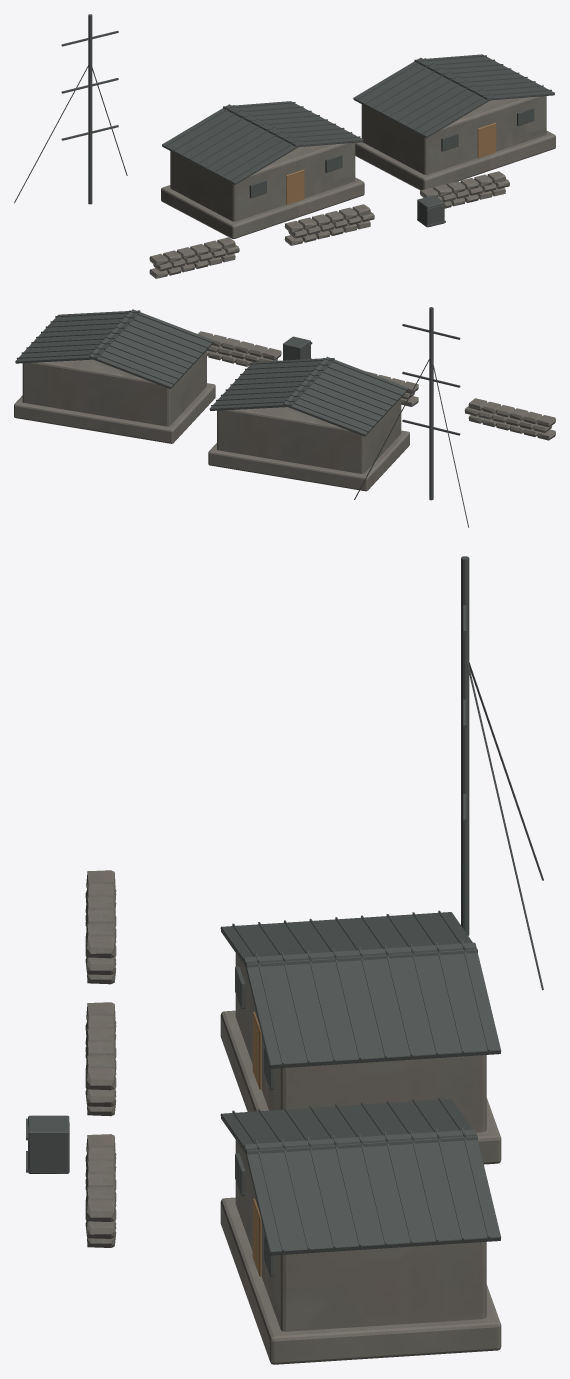
Rendered from slate-lod2.glb.
3 views of the same model, one above another, from view 1: azimuth 30°, elevation 25°; view 2: azimuth 150°, elevation 25°; view 3: azimuth 270°, elevation 25° (orthographic). The views are drawn at different scales.
Visible parts, largest first — view 1: slate_shelter_0.001, slate_shelter_1.001, slate_retaining_wall_2.001, slate_retaining_wall_3.001, slate_antenna_5.001, slate_retaining_wall_4.001, slate_stair_6.001; view 2: slate_shelter_1.001, slate_shelter_0.001, slate_retaining_wall_2.001, slate_antenna_5.001, slate_retaining_wall_4.001, slate_stair_6.001, slate_retaining_wall_3.001; view 3: slate_shelter_1.001, slate_shelter_0.001, slate_antenna_5.001, slate_retaining_wall_3.001, slate_retaining_wall_4.001, slate_retaining_wall_2.001, slate_stair_6.001.
Boxes of the visible parts, x1,y1,x2,y2 form: slate_shelter_0.001: (161,101,364,238); slate_shelter_1.001: (353,54,555,190); slate_retaining_wall_2.001: (149,237,239,278); slate_retaining_wall_3.001: (284,204,374,245); slate_antenna_5.001: (14,14,127,204); slate_retaining_wall_4.001: (420,171,509,208); slate_stair_6.001: (417,195,445,227); slate_shelter_1.001: (14,309,215,443); slate_shelter_0.001: (208,356,409,491); slate_retaining_wall_2.001: (464,398,555,440); slate_antenna_5.001: (354,307,468,527); slate_retaining_wall_4.001: (198,331,281,366); slate_stair_6.001: (283,336,312,360); slate_retaining_wall_3.001: (366,371,418,406); slate_shelter_1.001: (220,1097,501,1364); slate_shelter_0.001: (220,910,501,1164); slate_antenna_5.001: (461,556,543,990); slate_retaining_wall_3.001: (85,1002,116,1116); slate_retaining_wall_4.001: (85,1134,116,1247); slate_retaining_wall_2.001: (85,870,116,984); slate_stair_6.001: (26,1115,69,1173).
Bounding box in the file's own units: 42.11 × 17 × 19.92.
3 materials, 3 textured.
